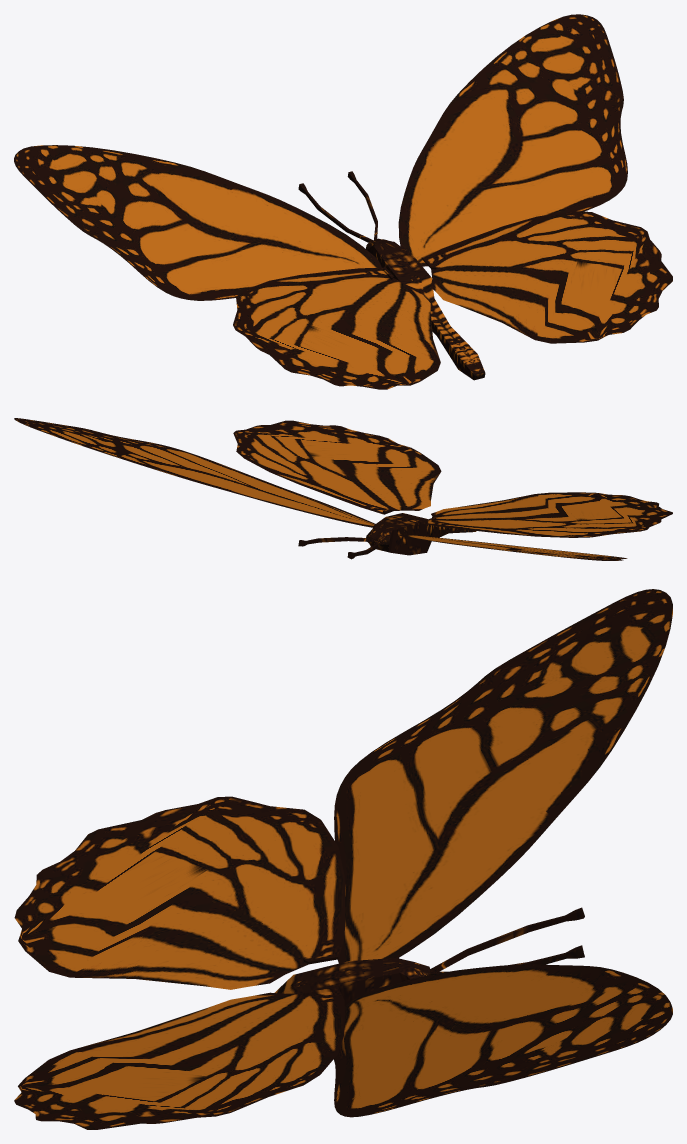
File: butterfly10.glb
3 views of the same model, one above another, from view 1: azimuth 30°, elevation 25°; view 2: azimuth 150°, elevation 25°; view 3: azimuth 270°, elevation 25° (orthographic). The views are drawn at different scales.
Visible parts, largest first — view 1: upper_wing, lower_wing, body; view 2: lower_wing, upper_wing, body; view 3: upper_wing, lower_wing, body.
Boxes of the visible parts, <box> form: upper_wing: <box>14,14,627,300</box>; lower_wing: <box>233,211,672,389</box>; body: <box>298,171,485,380</box>; lower_wing: <box>233,420,672,537</box>; upper_wing: <box>14,418,627,560</box>; body: <box>298,513,476,559</box>; upper_wing: <box>334,589,672,1117</box>; lower_wing: <box>14,796,344,1129</box>; body: <box>274,907,584,1006</box>.
Size of the model in its own units: 3.96 by 1.06 by 2.44.
1 material, 1 textured.
